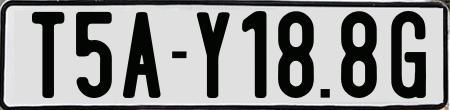1: (239, 10, 267, 103)
5: (76, 10, 116, 99)
8: (275, 10, 313, 103), (341, 10, 379, 98)
A: (120, 9, 159, 100)
G: (390, 9, 428, 101)
T: (29, 12, 66, 101)
Y: (194, 11, 228, 100)
